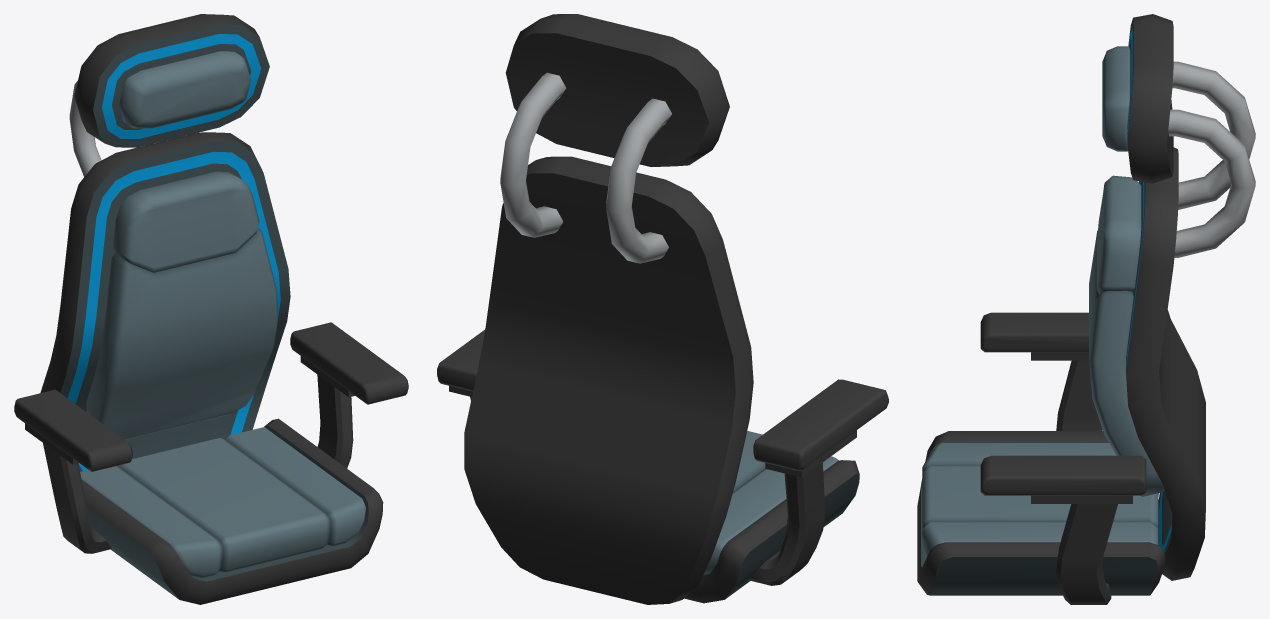
The model's file is Armchair_007_Chair_01.fbx.
3 views of the same model, side by side, from view 1: azimuth 30°, elevation 25°; view 2: azimuth 150°, elevation 25°; view 3: azimuth 270°, elevation 25° (orthographic). The views are drawn at different scales.
Parts seen in each view (by area): view 1: Armchair_007_Chair_01; view 2: Armchair_007_Chair_01; view 3: Armchair_007_Chair_01.
Boxes of the visible parts, box(x1,y1,x2,y2) form: Armchair_007_Chair_01: box(14, 14, 408, 604); Armchair_007_Chair_01: box(437, 14, 888, 604); Armchair_007_Chair_01: box(917, 14, 1255, 604).
Bounding box in the file's own units: 90.47 × 77.8 × 131.
